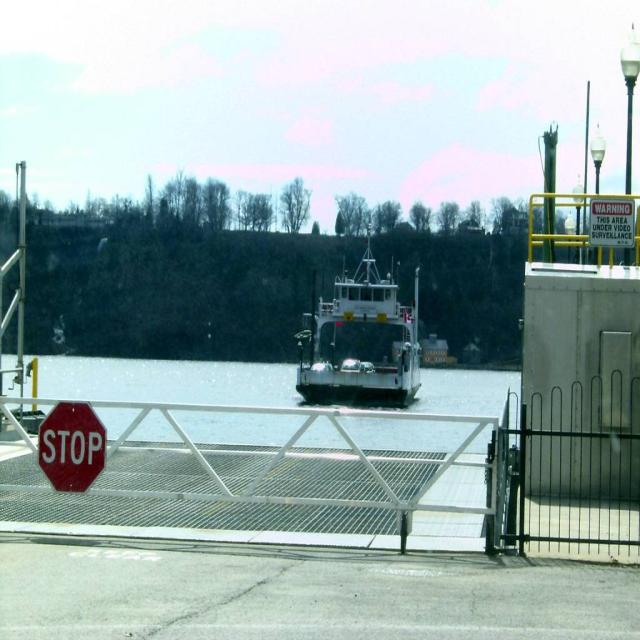Boat: (284, 237, 438, 407)
